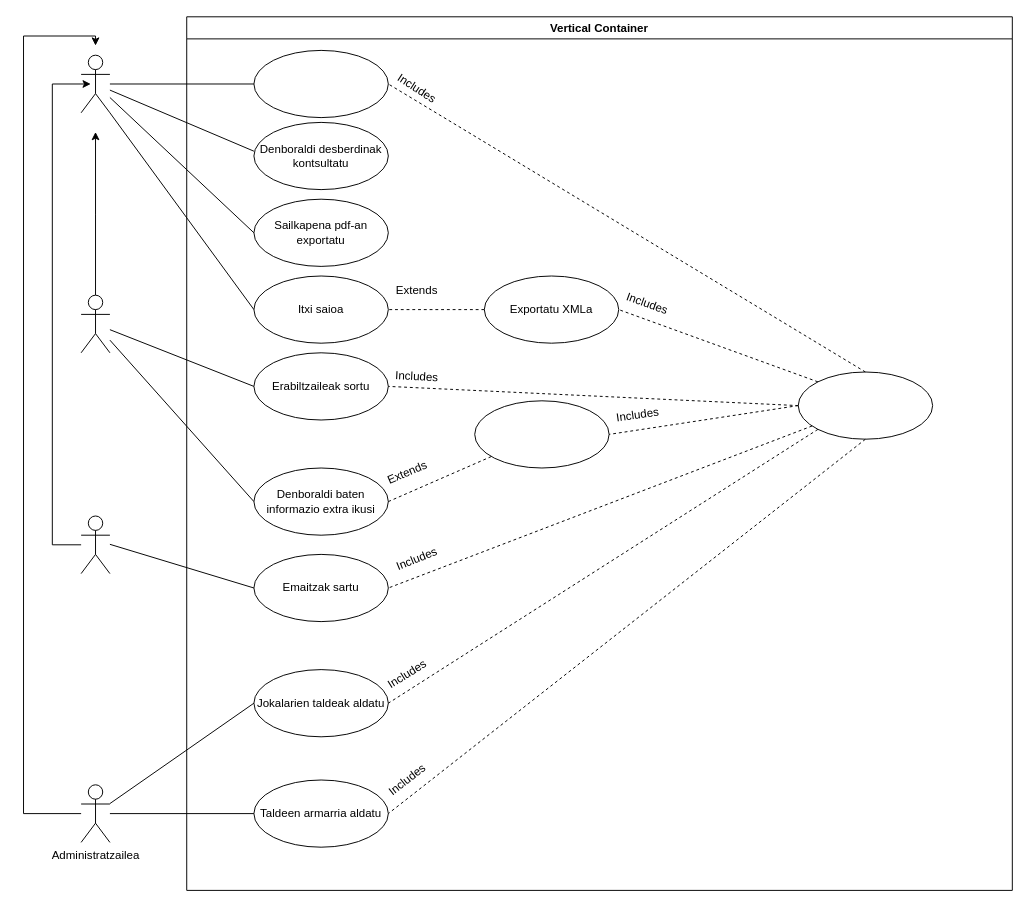
The diagram is 1029 pixels wide and 907 high, and some of its shapes have lost their labels. The shapes that lost their labels are listed below. From the top down, each one's centre as x and y in pixels, then its label:
pixel 95 83: Erabiltzailea
pixel 320 83: Hasi saioa
pixel 95 323: Presi
pixel 865 405: Log fitxategian idatzi
pixel 541 434: Denboraldiak hasierastu
pixel 95 544: Epaile
